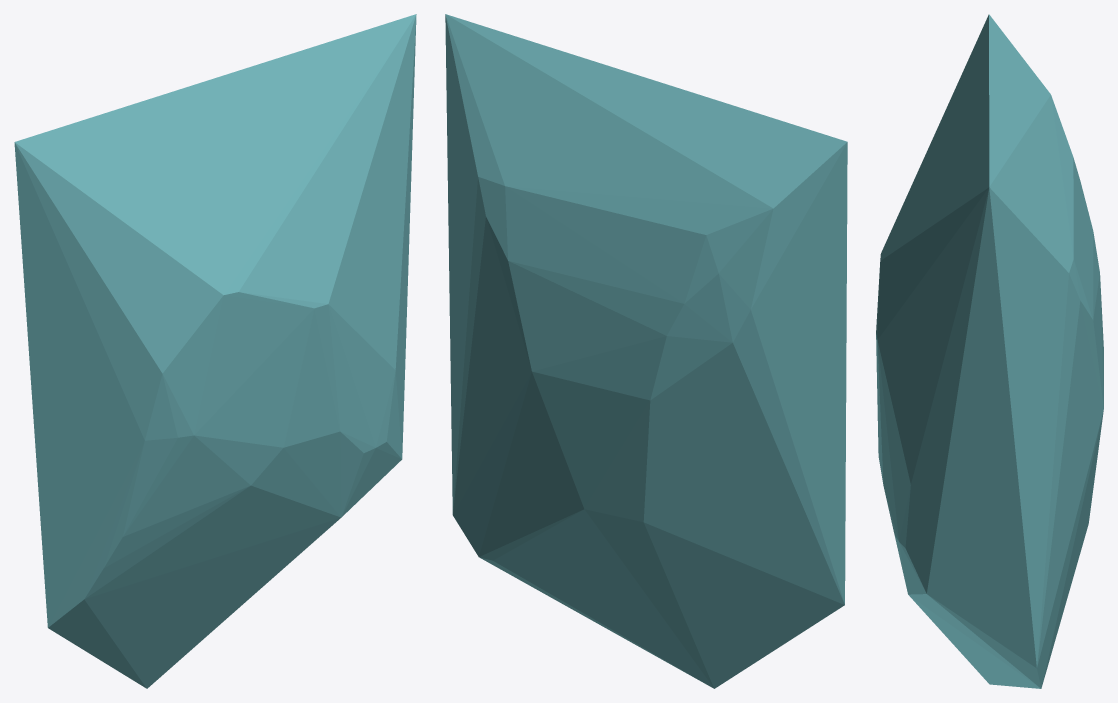
The model's file is food_processed_chips_p01.glb.
3 renders of one model, left to right at view 1: azimuth 30°, elevation 25°; view 2: azimuth 150°, elevation 25°; view 3: azimuth 270°, elevation 25°, orthographic. The views are drawn at different scales.
Visible parts, largest first — view 1: geometry_0; view 2: geometry_0; view 3: geometry_0.
Boxes of the visible parts, x1=… form: geometry_0: x1=14, y1=14, x2=416, y2=688; geometry_0: x1=445, y1=14, x2=847, y2=688; geometry_0: x1=876, y1=14, x2=1103, y2=688.
Bounding box in the file's own units: 0.3315 × 0.4799 × 0.1564.
